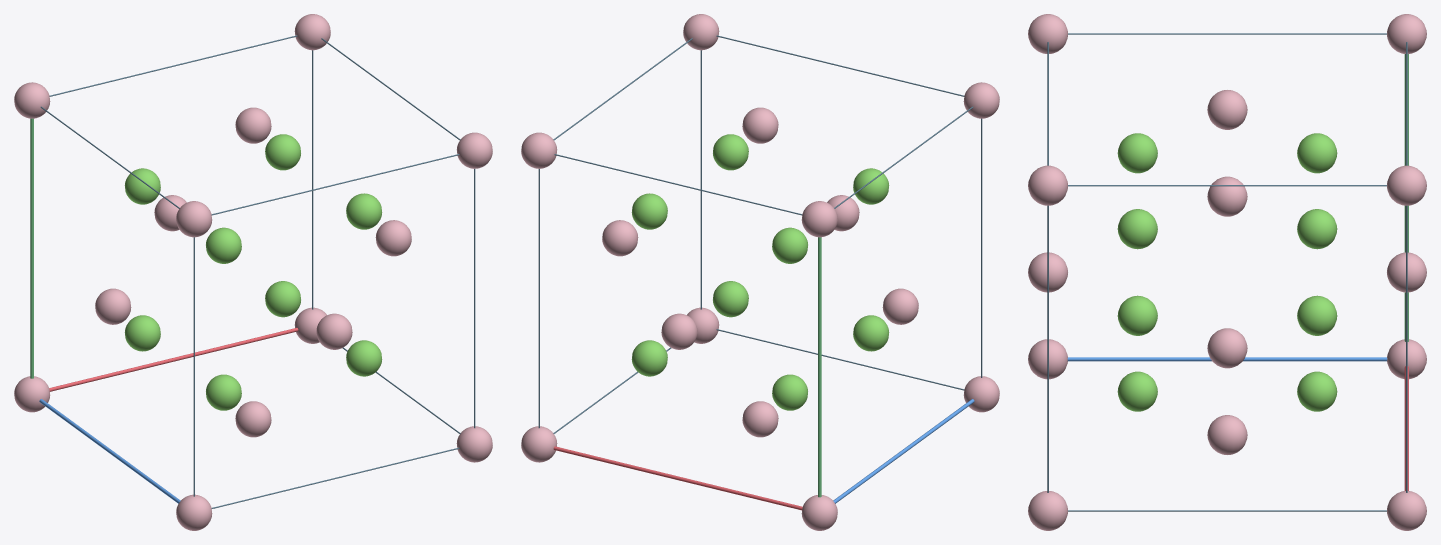
The model's file is chat-strontium-fluoride.glb.
3 renders of one model, left to right at view 1: azimuth 30°, elevation 25°; view 2: azimuth 150°, elevation 25°; view 3: azimuth 270°, elevation 25°, orthographic. The views are drawn at different scales.
Parts seen in each view (by area): view 1: Sr · Sr · 1 (×14), F · F · 1 (×8), Ô mạng và các trục a, b, c; view 2: Sr · Sr · 1 (×14), F · F · 1 (×8), Ô mạng và các trục a, b, c; view 3: Sr · Sr · 1 (×14), F · F · 1 (×8), Ô mạng và các trục a, b, c.
Part boxes in pixels (x1=…): Sr · Sr · 1 (×14): x1=14, y1=14, x2=492, y2=530; F · F · 1 (×8): x1=124, y1=134, x2=382, y2=410; Ô mạng và các trục a, b, c: x1=30, y1=35, x2=475, y2=508; Sr · Sr · 1 (×14): x1=521, y1=14, x2=999, y2=530; F · F · 1 (×8): x1=631, y1=134, x2=889, y2=410; Ô mạng và các trục a, b, c: x1=538, y1=35, x2=982, y2=510; Sr · Sr · 1 (×14): x1=1028, y1=14, x2=1426, y2=530; F · F · 1 (×8): x1=1117, y1=133, x2=1337, y2=411; Ô mạng và các trục a, b, c: x1=1047, y1=33, x2=1408, y2=511.
Bounding box in the file's own units: 6.35 × 6.35 × 6.35.
